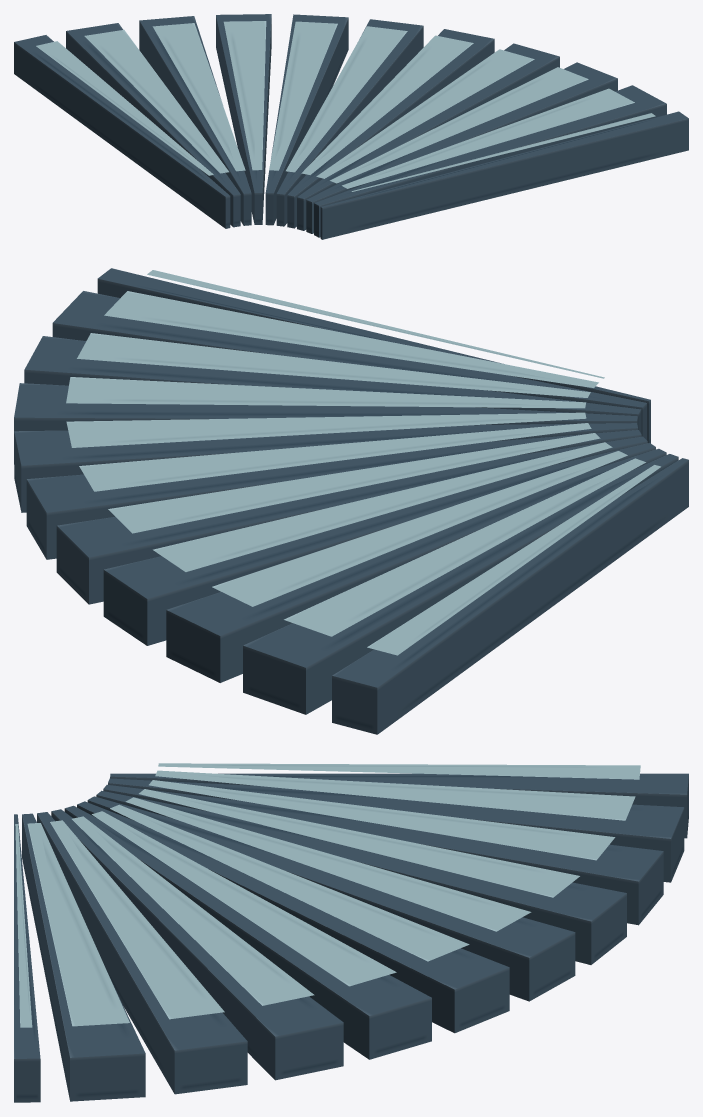
The model's file is sc_tread_curve_left_18.obj.
3 views of the same model, one above another, from view 1: azimuth 30°, elevation 25°; view 2: azimuth 150°, elevation 25°; view 3: azimuth 270°, elevation 25° (orthographic). The views are drawn at different scales.
Size of the model in its own units: 17.5 by 1.56 by 17.5.
Materials: 1 (1 with a texture image).
